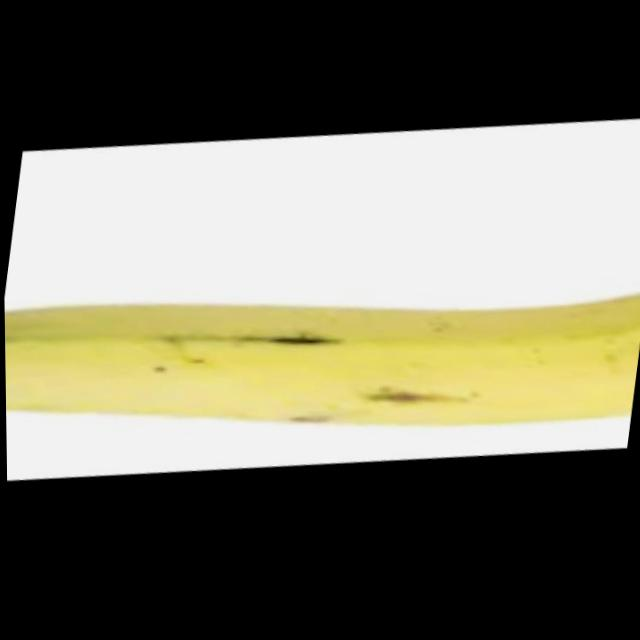Banana: (2, 184, 640, 504)
